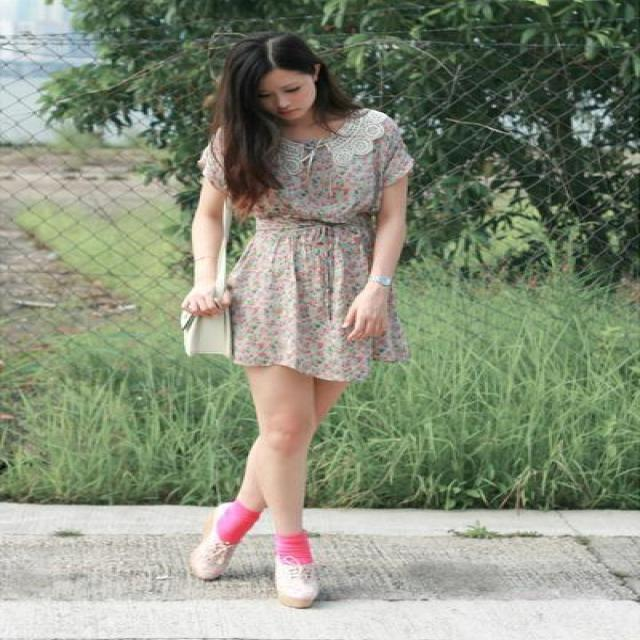bag: (184, 297, 243, 355)
dress: (198, 109, 413, 381)
shoe: (189, 534, 312, 591)
